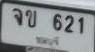letters: (26, 10, 37, 28), (12, 7, 22, 26), (64, 15, 74, 33), (53, 13, 62, 31), (78, 17, 84, 34)
province: (35, 36, 59, 46)
